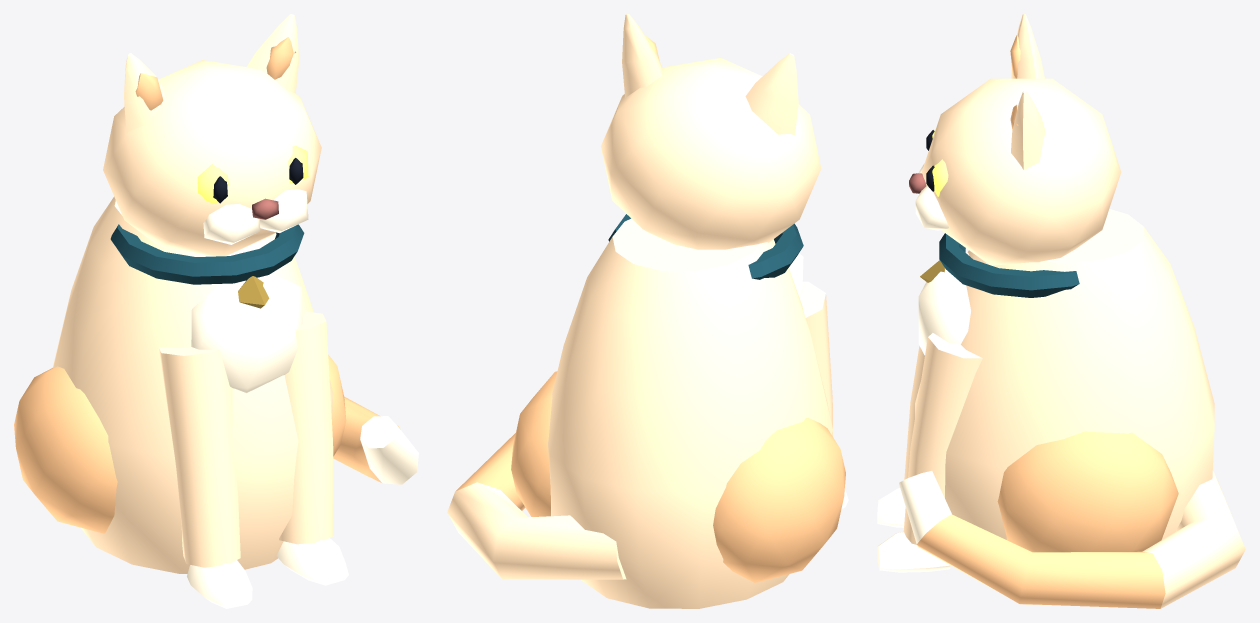
Rendered from npc_animal_cat.glb.
3 renders of one model, left to right at view 1: azimuth 30°, elevation 25°; view 2: azimuth 150°, elevation 25°; view 3: azimuth 270°, elevation 25°, orthographic. The views are drawn at different scales.
Visible parts, largest first — view 1: npc_animal_cat; view 2: npc_animal_cat; view 3: npc_animal_cat.
Part boxes in pixels (x1,y1,x2,y2): npc_animal_cat: [14, 14, 418, 608]; npc_animal_cat: [447, 14, 848, 608]; npc_animal_cat: [877, 14, 1245, 608].
Size of the model in its own units: 0.4033 by 0.5629 by 0.3835.
